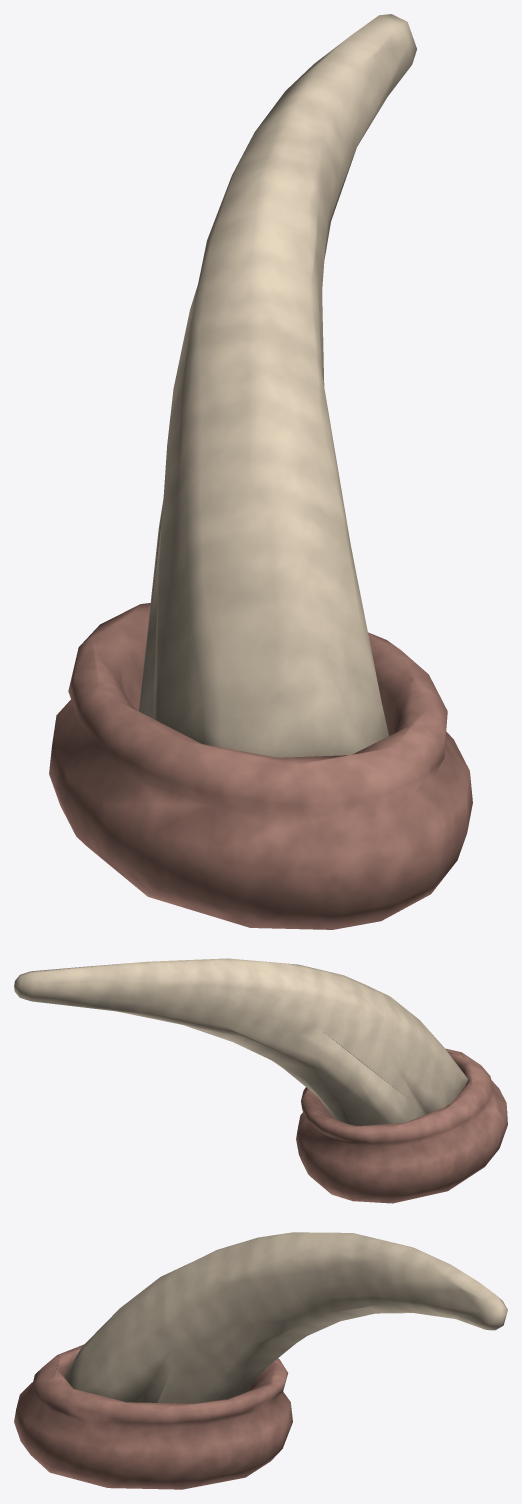
File: cpart_tusk.glb
3 views of the same model, one above another, from view 1: azimuth 30°, elevation 25°; view 2: azimuth 150°, elevation 25°; view 3: azimuth 270°, elevation 25° (orthographic). The views are drawn at different scales.
Parts seen in each view (by area): view 1: Tusk; view 2: Tusk; view 3: Tusk.
Boxes of the visible parts, <box> form: Tusk: <box>49,14,472,929</box>; Tusk: <box>14,958,507,1203</box>; Tusk: <box>14,1232,507,1489</box>.
Size of the model in its own units: 0.1317 by 0.1021 by 0.162.
2 materials, 2 textured.
